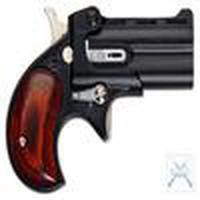gun: (3, 7, 196, 193)
